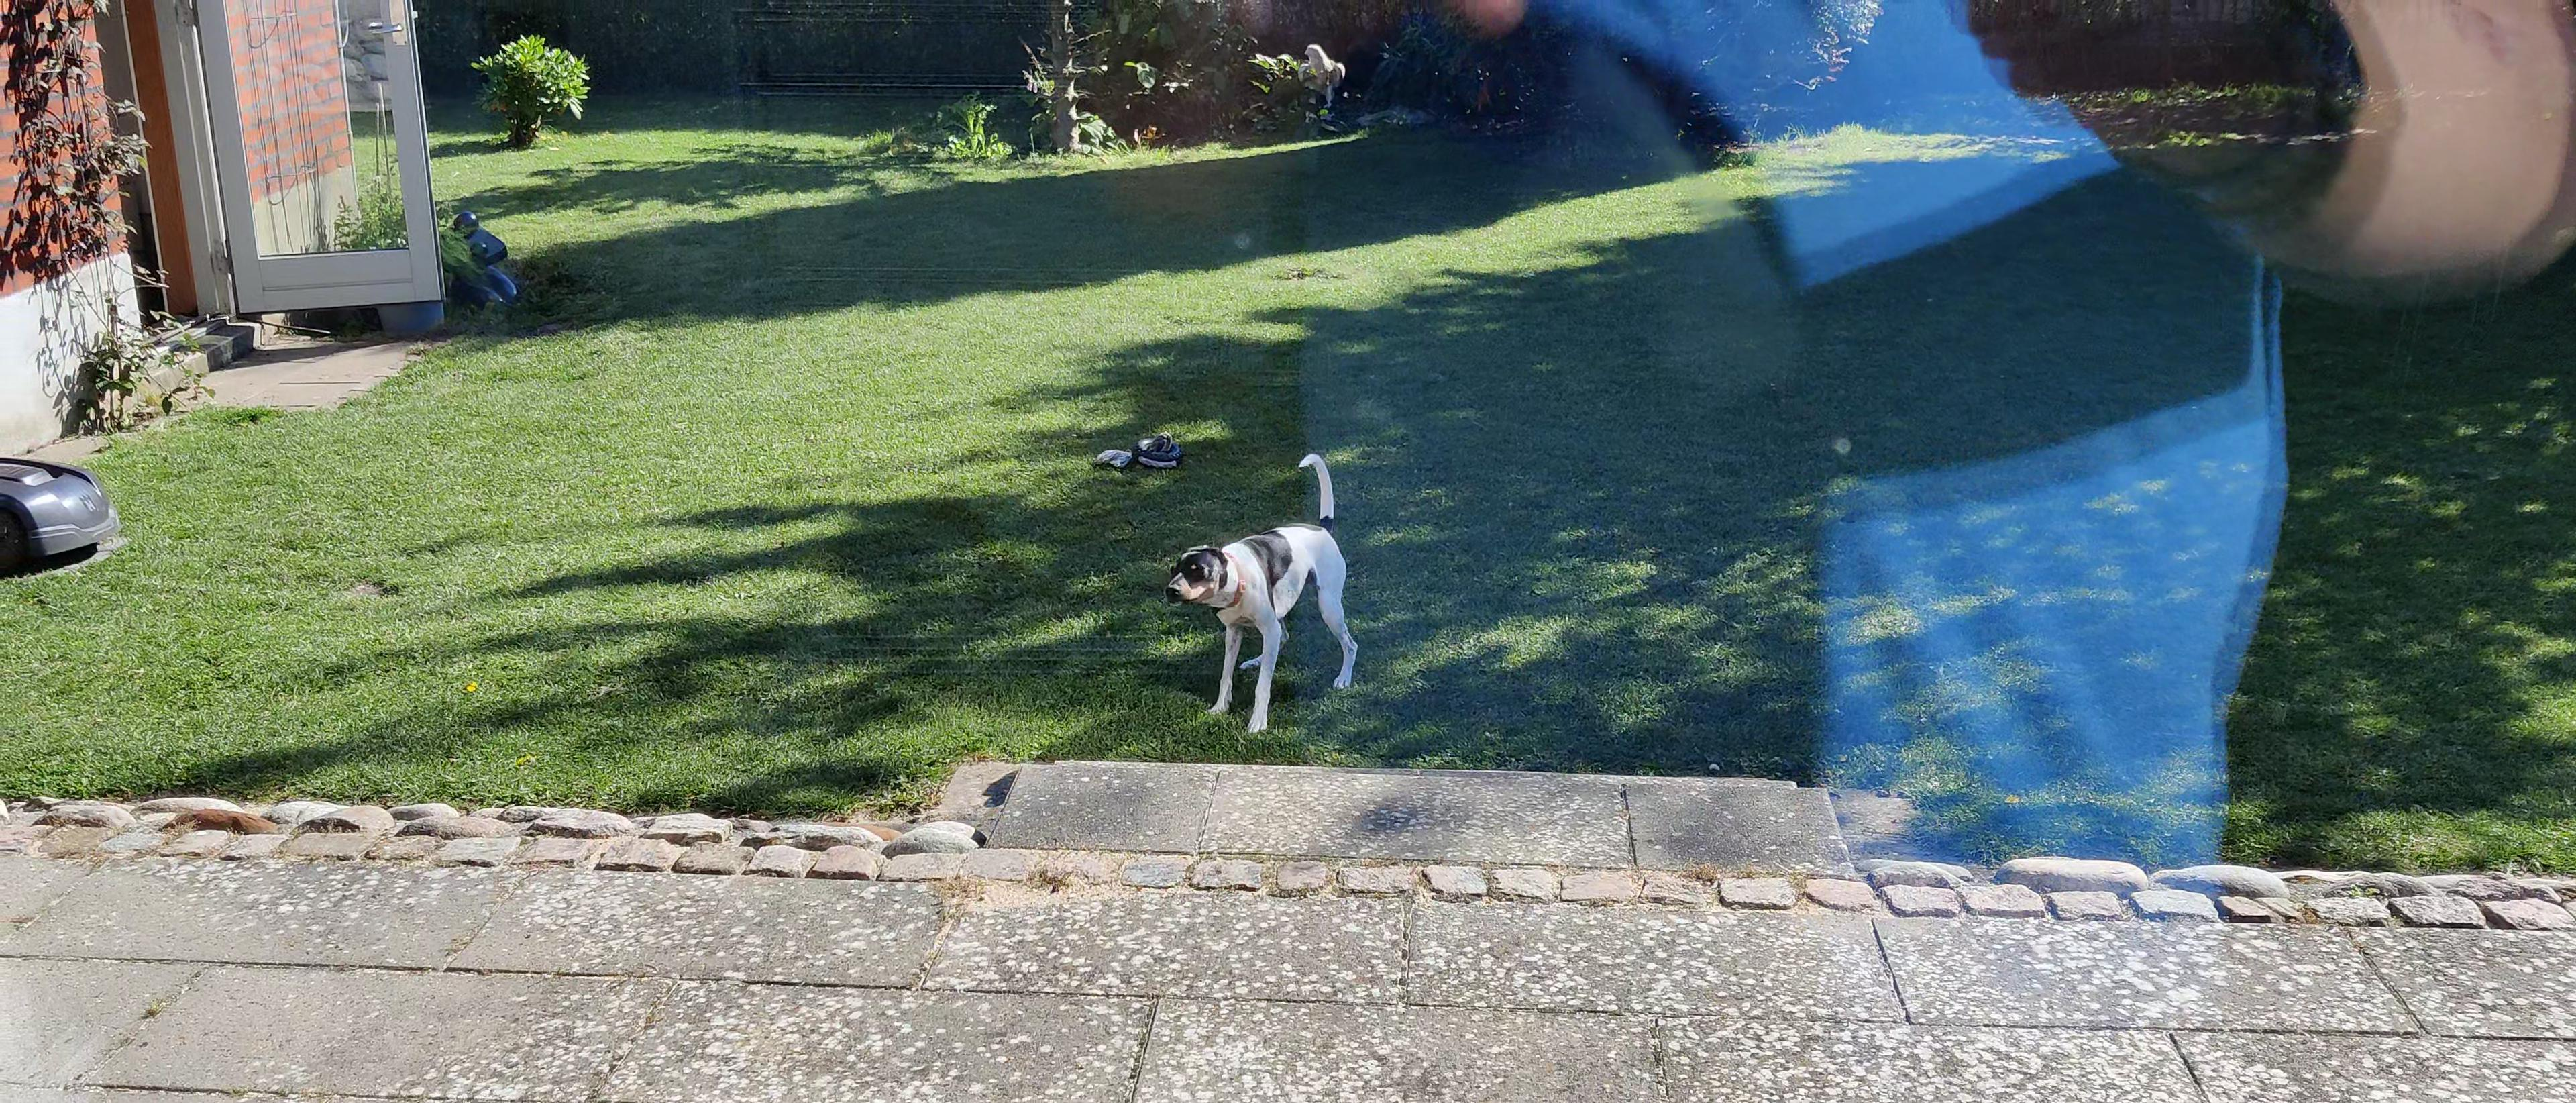Dog: (1153, 447, 1368, 736)
